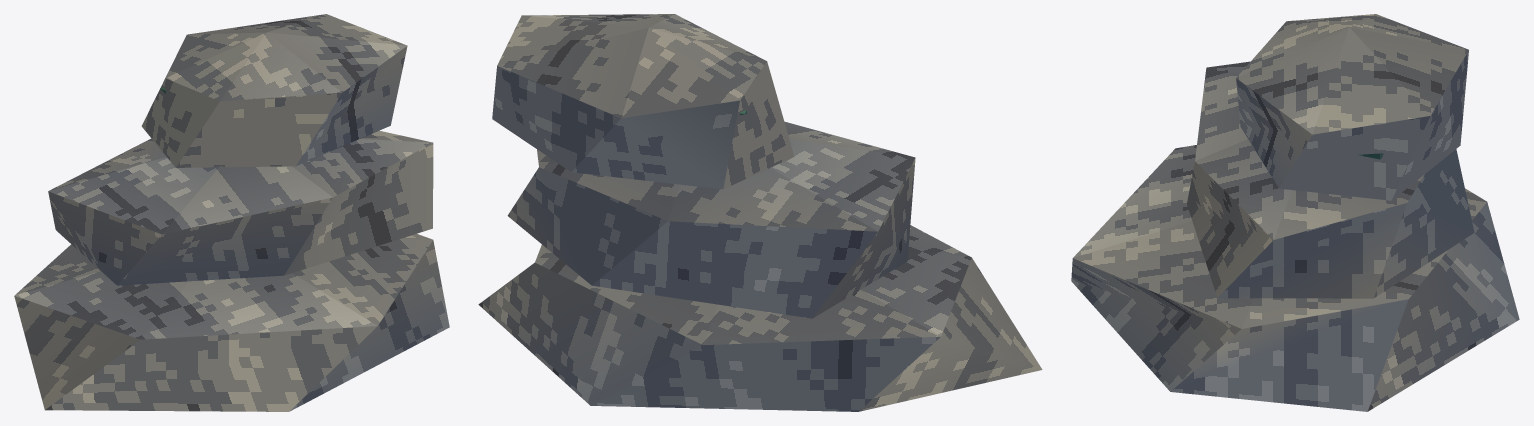
The model's file is mnat.rock__outcrop.glb.
The picture shows the model from 3 angles, left to right: view 1: azimuth 30°, elevation 25°; view 2: azimuth 150°, elevation 25°; view 3: azimuth 270°, elevation 25°; orthographic projection. The views are drawn at different scales.
Parts seen in each view (by area): view 1: kit_rock; view 2: kit_rock; view 3: kit_rock.
Part boxes in pixels (bbox=[...]): kit_rock: bbox=[14, 14, 449, 411]; kit_rock: bbox=[478, 14, 1042, 411]; kit_rock: bbox=[1071, 14, 1519, 411].
Bounding box in the file's own units: 3.09 × 2.1 × 2.48.
Materials: 2 (2 with a texture image).
